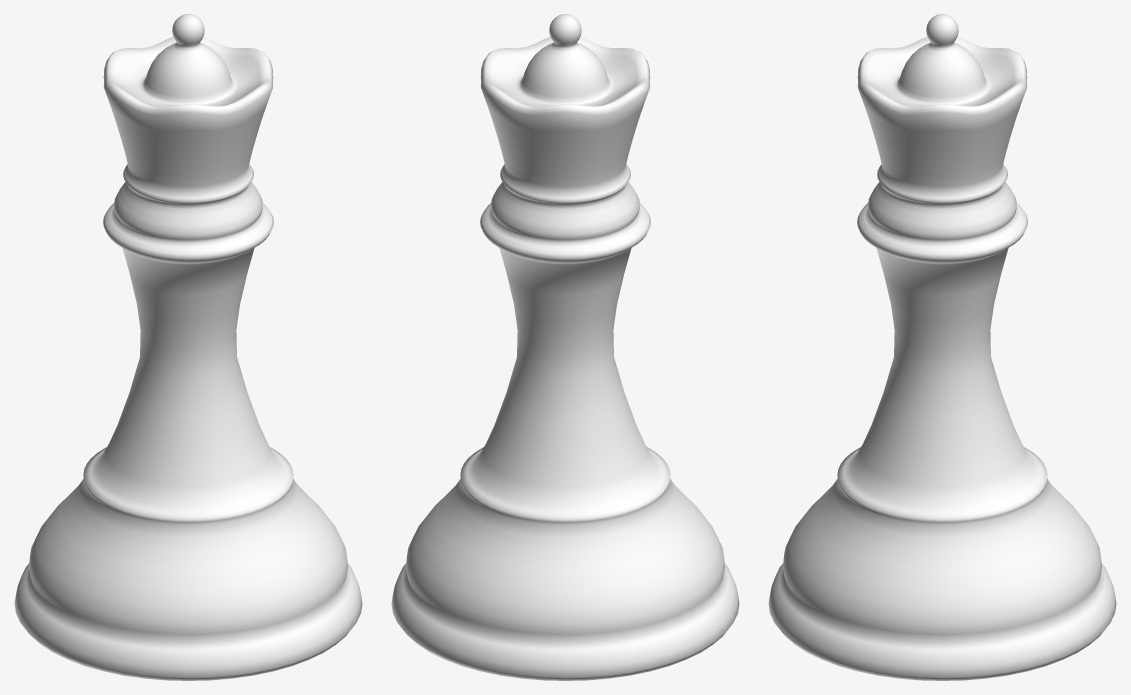
File: queen-white.obj
3 renders of one model, left to right at view 1: azimuth 30°, elevation 25°; view 2: azimuth 150°, elevation 25°; view 3: azimuth 270°, elevation 25°, orthographic.
Parts seen in each view (by area): view 1: high_poly_Cylinder.005; view 2: high_poly_Cylinder.005; view 3: high_poly_Cylinder.005.
Part boxes in pixels (box(x1,y1,x2,y2)): high_poly_Cylinder.005: box(14, 14, 362, 680); high_poly_Cylinder.005: box(391, 14, 739, 680); high_poly_Cylinder.005: box(768, 14, 1116, 680).
Size of the model in its own units: 2.36 by 4.48 by 2.36.
Materials: 1 (1 with a texture image).
